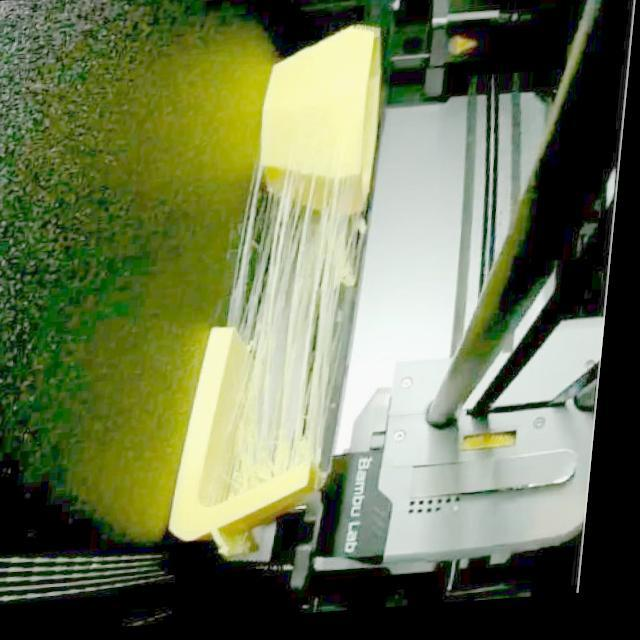stringing: (252, 187, 357, 470), (232, 266, 259, 327)
